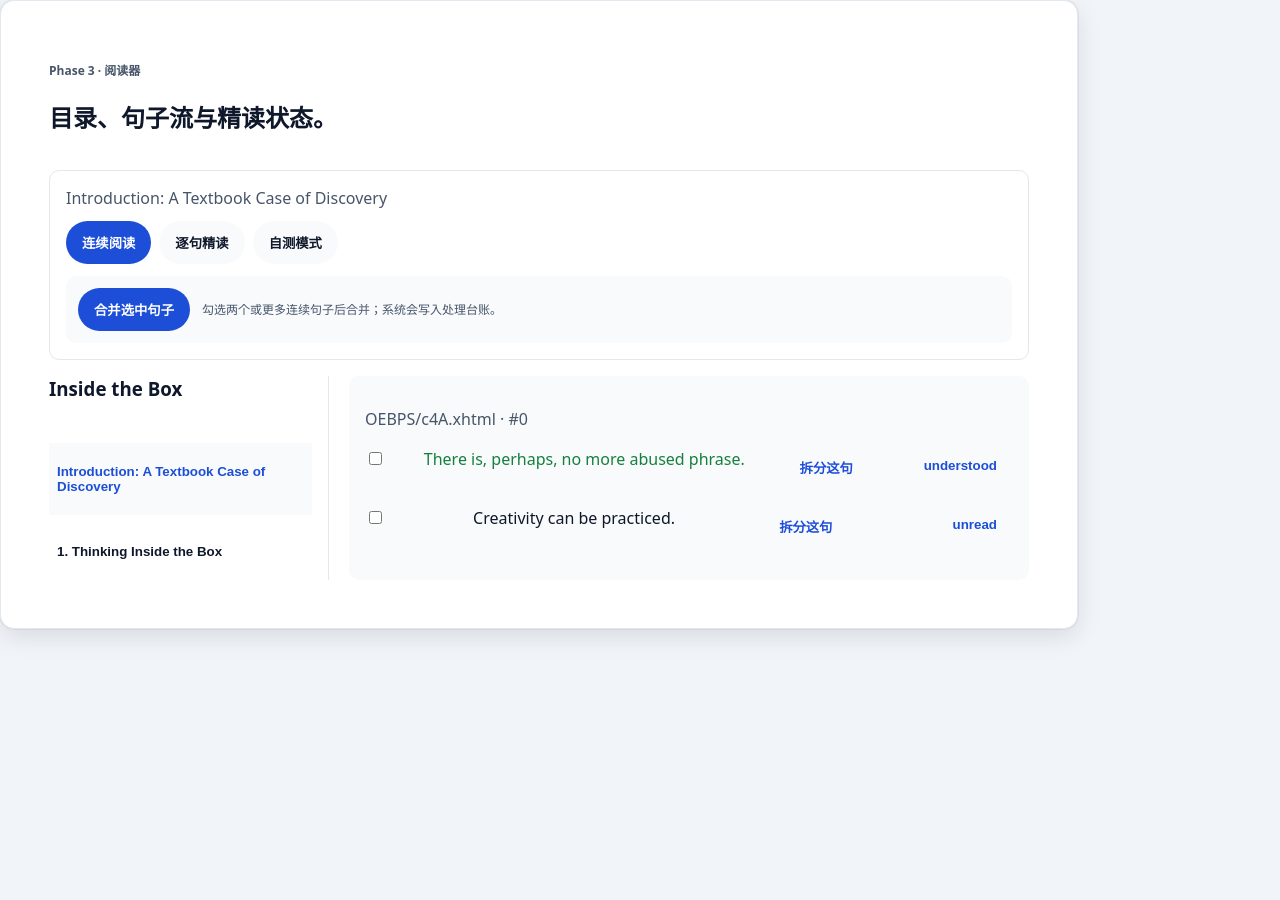
it: ReaderPanel › hides the active sentence in self-test mode until revealed
This screenshot has width=1280, height=900.
Click the button with test id "mode-quiz" at [295, 242], box x1=253 y1=221 x2=338 y2=264
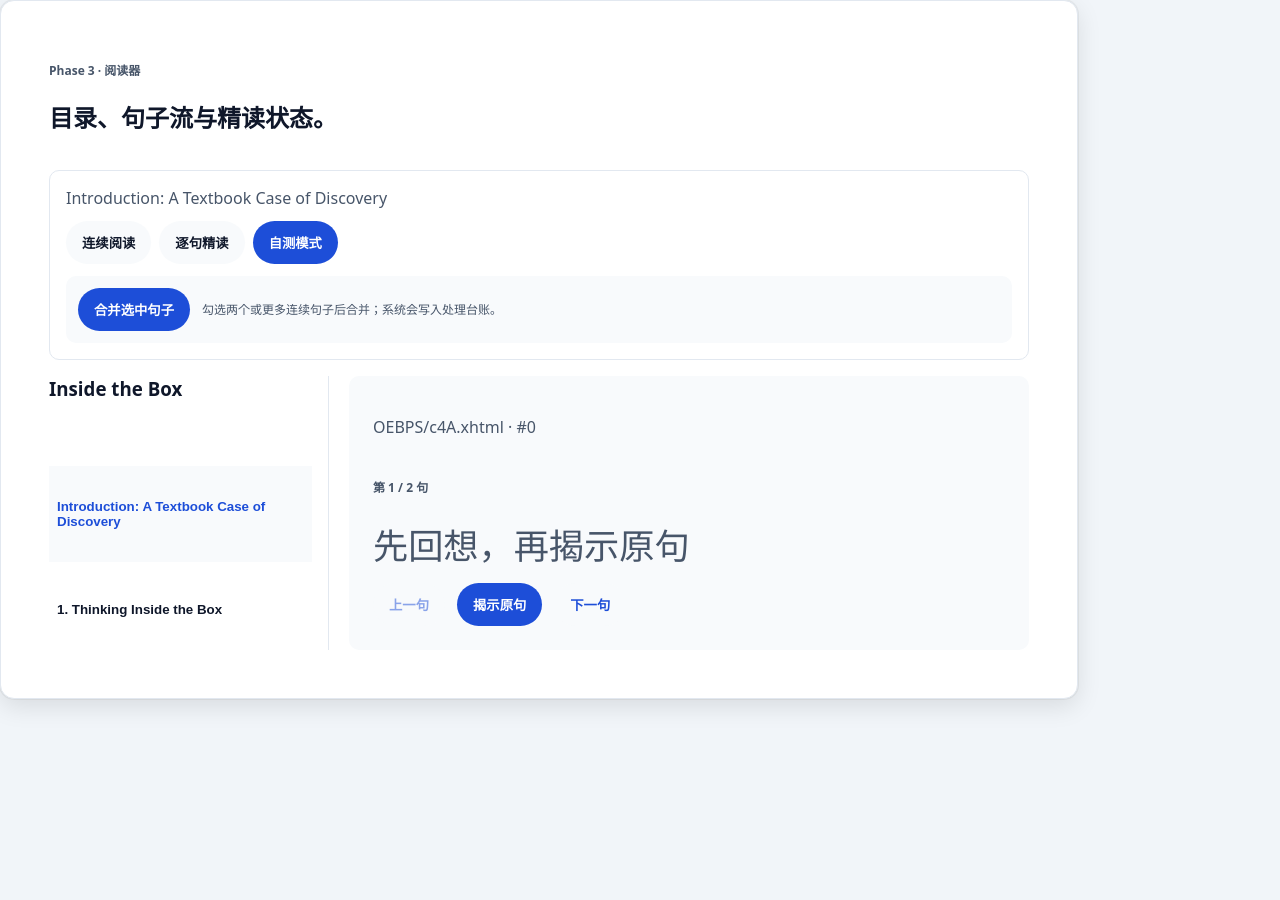
Check: the text "先回想，再揭示原句" is shown, box x1=373 y1=521 x2=690 y2=569
Check: the text "There is, perhaps, no more abused phrase." is gone
Click the button with test id "reveal-answer" at [500, 604], box x1=457 y1=583 x2=542 y2=626
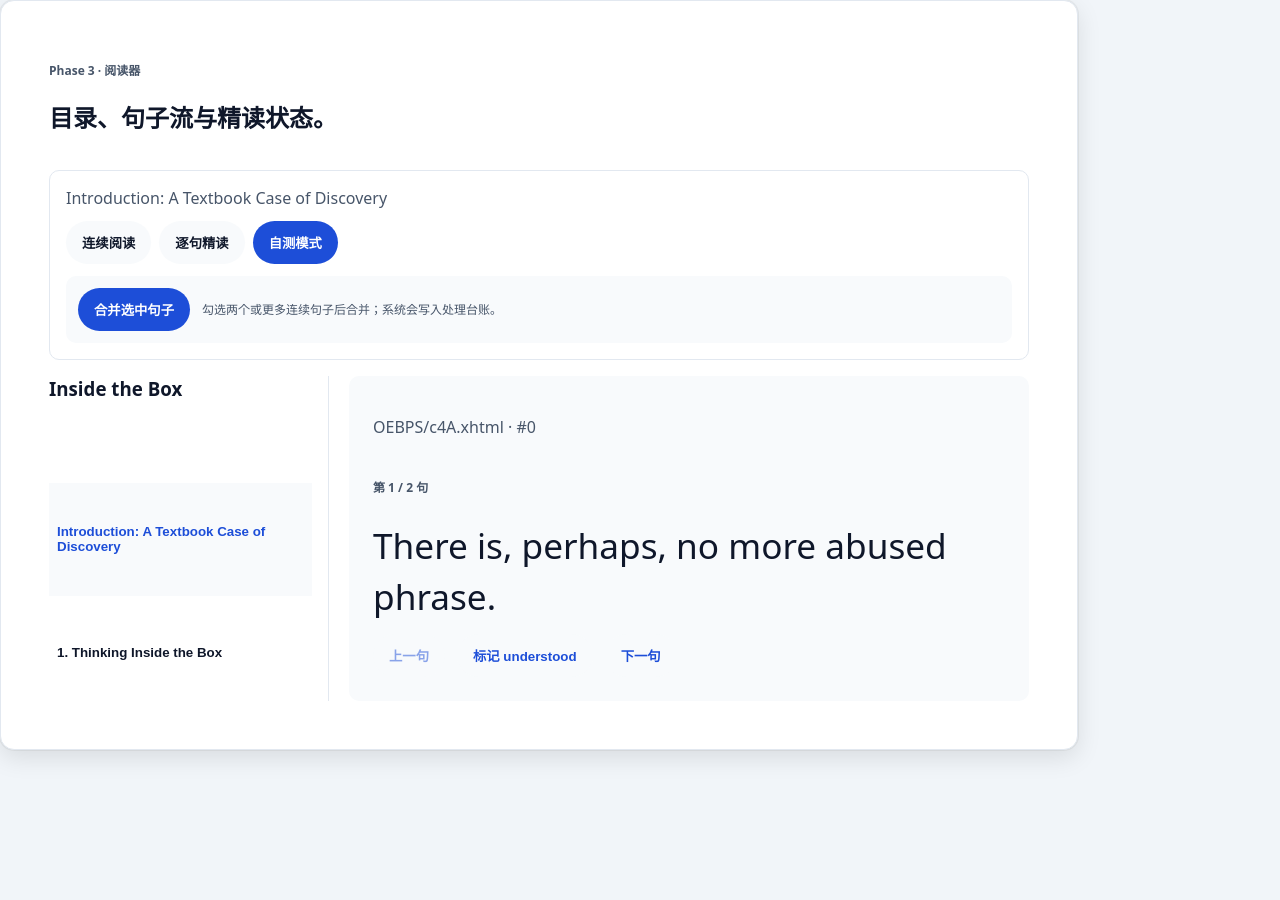
Check: the text "There is, perhaps, no more abused phrase." is shown, box x1=373 y1=520 x2=1005 y2=622
